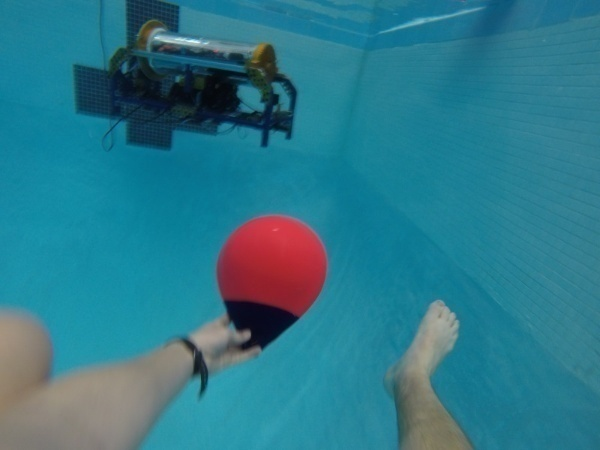buoy_red: (208, 214, 327, 356)
